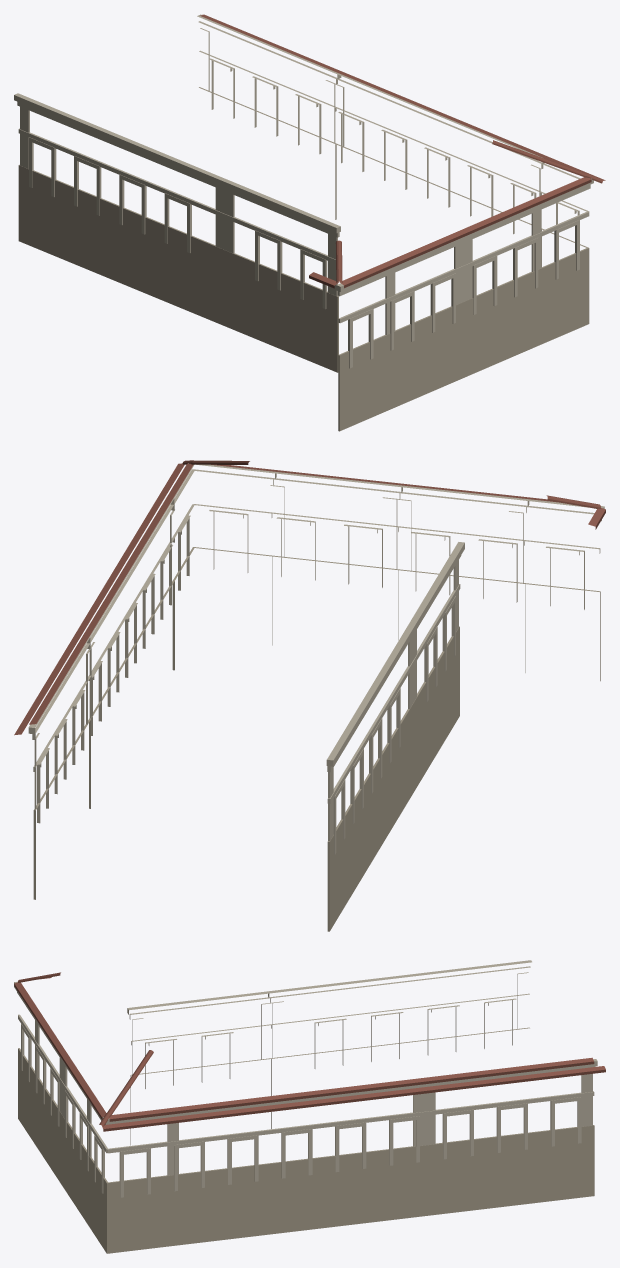
3 renders of one model, top to bottom at view 1: azimuth 30°, elevation 25°; view 2: azimuth 150°, elevation 25°; view 3: azimuth 270°, elevation 25°, orthographic. The views are drawn at different scales.
Parts seen in each view (by area): view 1: detail; view 2: detail; view 3: detail.
Boxes of the visible parts, left/top/right/bottom form: detail: left=14, top=14, right=605, bottom=431; detail: left=14, top=460, right=605, bottom=931; detail: left=14, top=960, right=605, bottom=1253.
Bounding box in the file's own units: 20.09 × 9.76 × 30.64.
